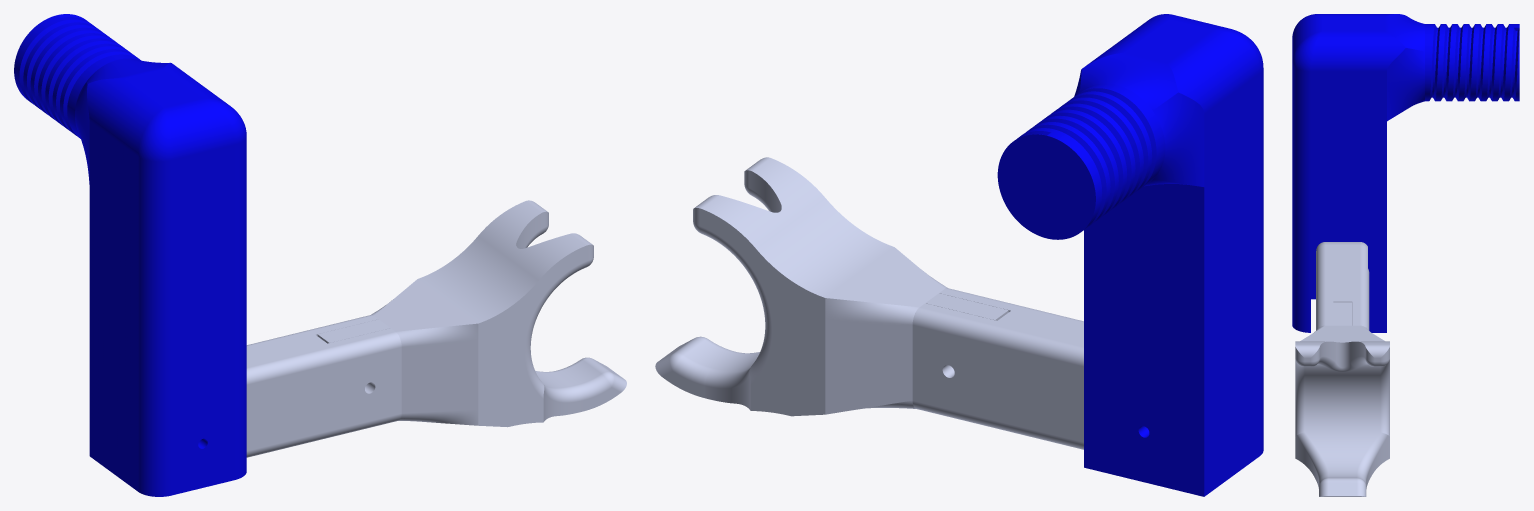
Rendered from right_arm.dae.
3 renders of one model, left to right at view 1: azimuth 30°, elevation 25°; view 2: azimuth 150°, elevation 25°; view 3: azimuth 270°, elevation 25°, orthographic. The views are drawn at different scales.
Parts seen in each view (by area): view 1: 61d9dfe5c256975848644780 (×3); view 2: 61d9dfe5c256975848644780 (×3); view 3: 61d9dfe5c256975848644780 (×3).
Boxes of the visible parts, <box> form: 61d9dfe5c256975848644780 (×3): <box>14,14,626,496</box>; 61d9dfe5c256975848644780 (×3): <box>655,14,1263,496</box>; 61d9dfe5c256975848644780 (×3): <box>1292,14,1519,496</box>.
Size of the model in its own units: 0.2364 by 0.12 by 0.183.
